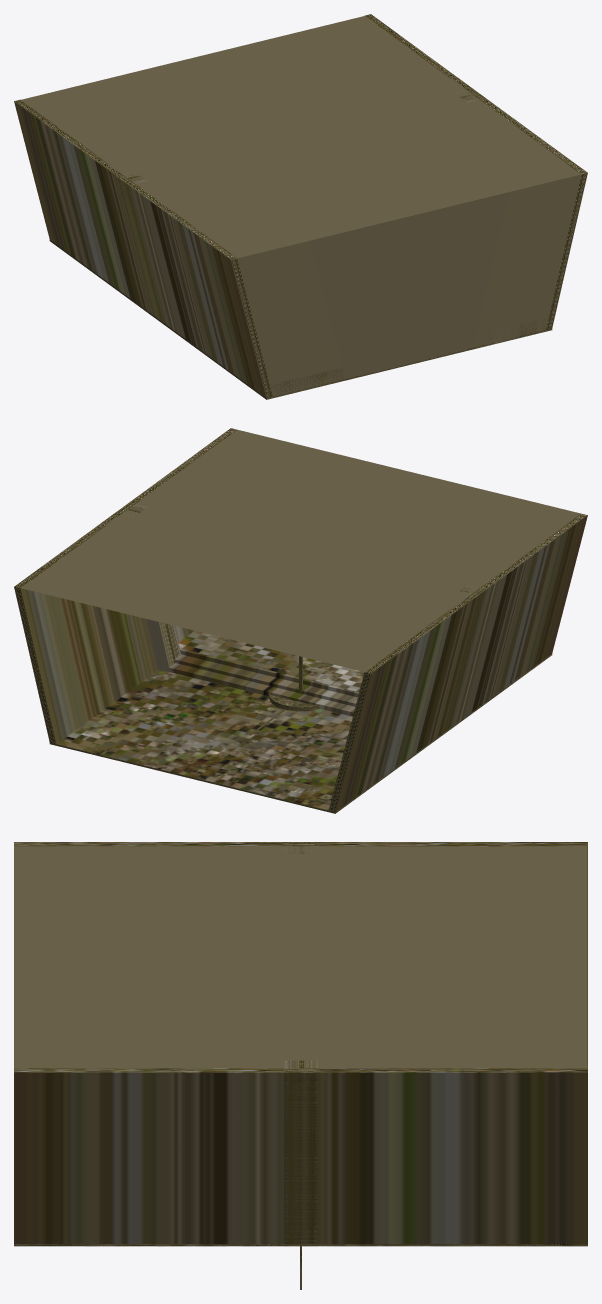
Rendered from architectural_exhibition_hall.glb.
3 renders of one model, top to bottom at view 1: azimuth 30°, elevation 25°; view 2: azimuth 150°, elevation 25°; view 3: azimuth 270°, elevation 25°, orthographic. The views are drawn at different scales.
Visible parts, largest first — view 1: mesh_2, mesh_3; view 2: mesh_2, mesh_4; view 3: mesh_2.
Part boxes in pixels (box(x1,y1,x2,y2)): mesh_2: box(14, 14, 587, 399); mesh_3: box(309, 192, 509, 378); mesh_2: box(14, 428, 587, 813); mesh_4: box(49, 630, 364, 813); mesh_2: box(14, 842, 587, 1246).
Bounding box in the file's own units: 32.32 × 21.68 × 34.
1 material, 1 textured.
